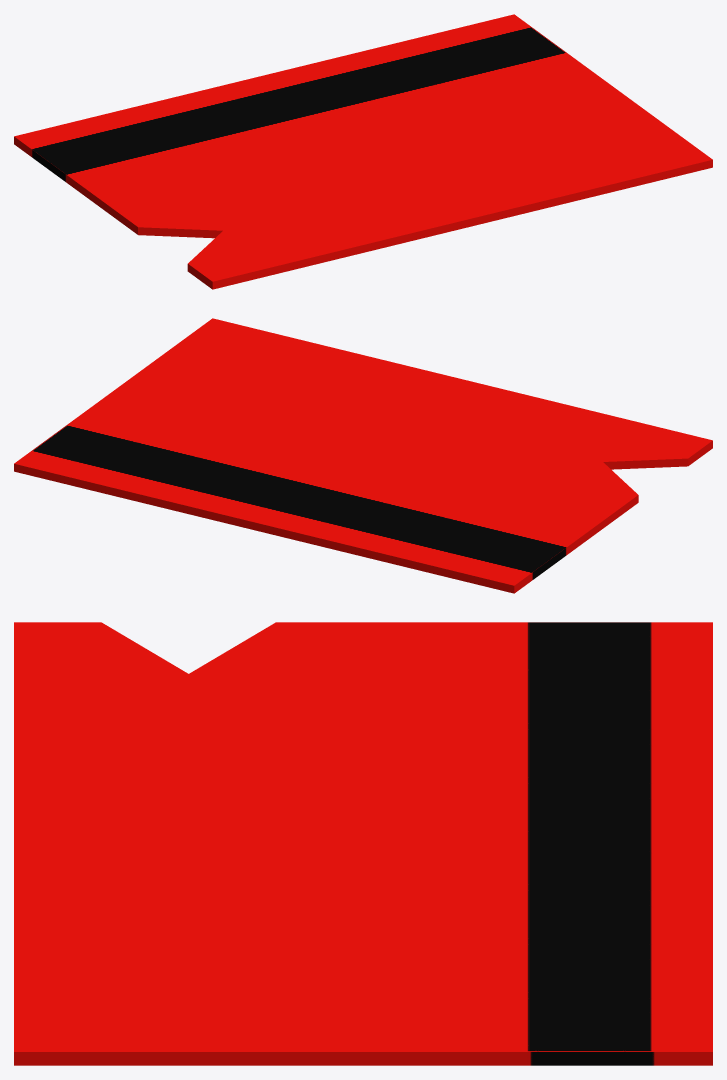
Rendered from red_keycard.glb.
3 views of the same model, one above another, from view 1: azimuth 30°, elevation 25°; view 2: azimuth 150°, elevation 25°; view 3: azimuth 270°, elevation 25° (orthographic). The views are drawn at different scales.
Parts seen in each view (by area): view 1: Cube; view 2: Cube; view 3: Cube.
Part boxes in pixels (bbox=[...]): Cube: bbox=[14, 14, 712, 289]; Cube: bbox=[14, 318, 712, 593]; Cube: bbox=[14, 622, 712, 1065].
Size of the model in its own units: 2.91 by 0.0438 by 2.
Materials: 1 (1 with a texture image).
